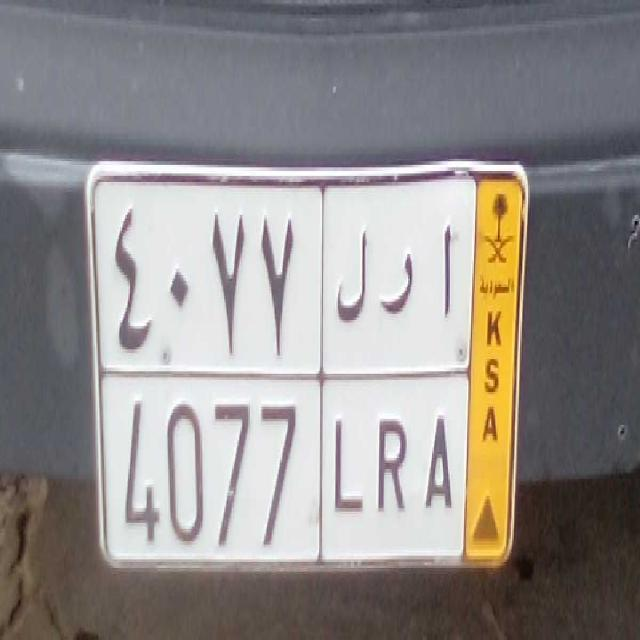license_plate: (97, 368, 469, 562)
